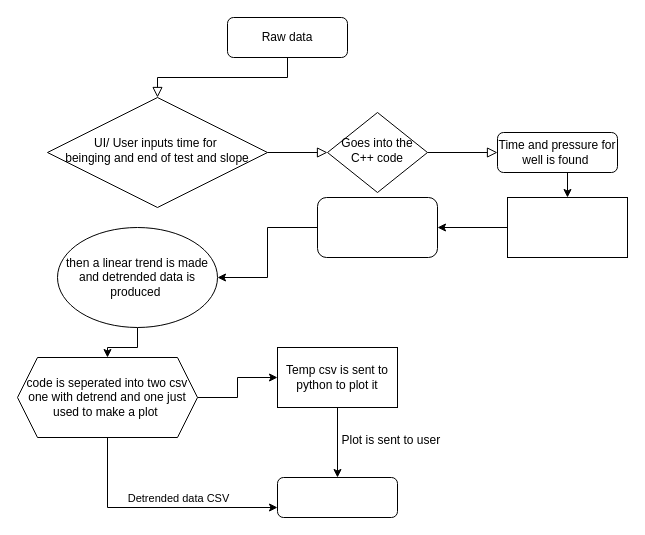
This 645x535 diagram has some shape labels left out. The shapes that lost their labels are listed below. From the top down, each one's centre as x and y in pixels, then its label:
[377,227]: If user wants the slope estimated
[567,227]: Data is smoothed and NaN values are removed
[337,497]: Output/ code ends
